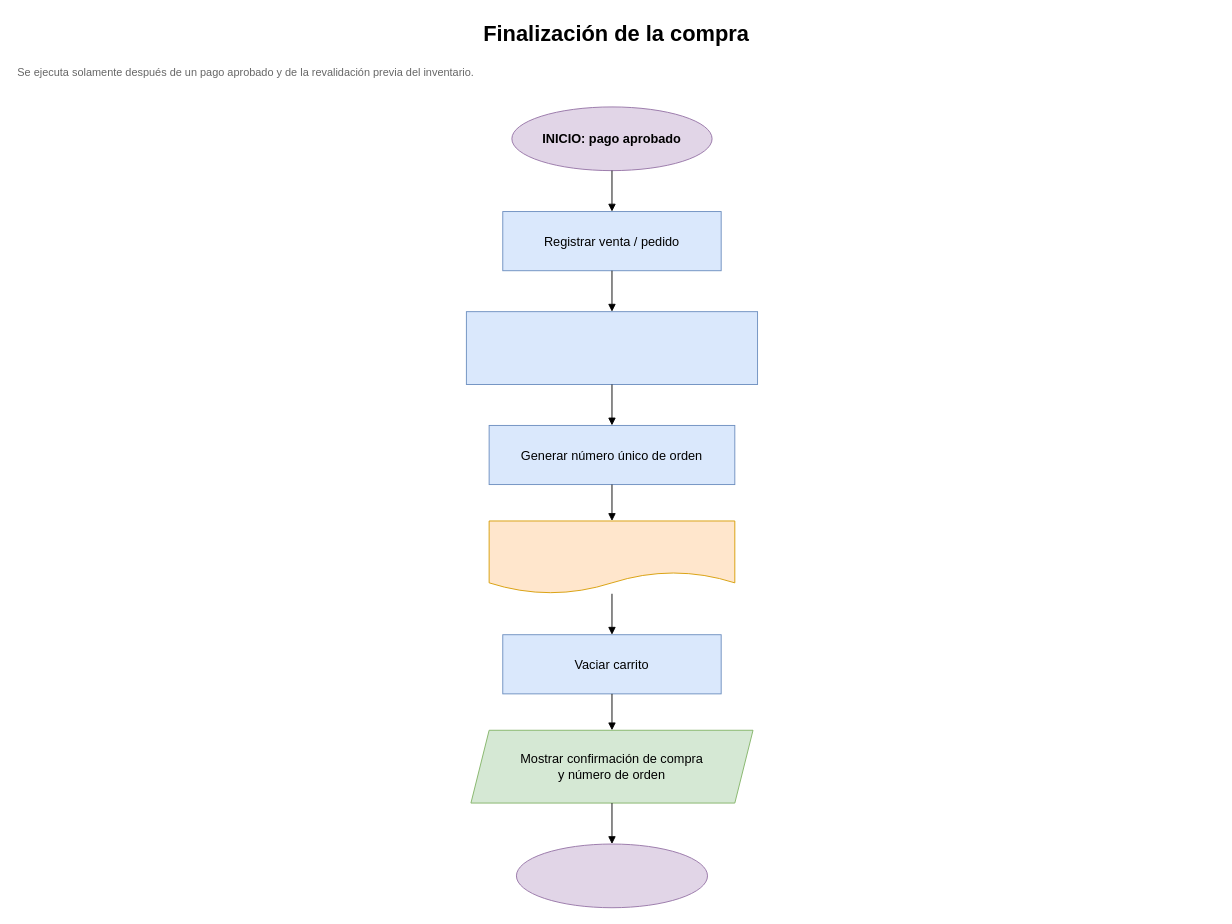
Image size: 1232x924. Some labels were removed from this diagram. Each missing label, with the box of its shape:
Descontar del inventario la cantidad comprada de cada producto: (465, 311, 758, 384)
FIN: compra completada: (516, 843, 708, 908)
Generar factura / comprobante: (488, 520, 735, 594)
